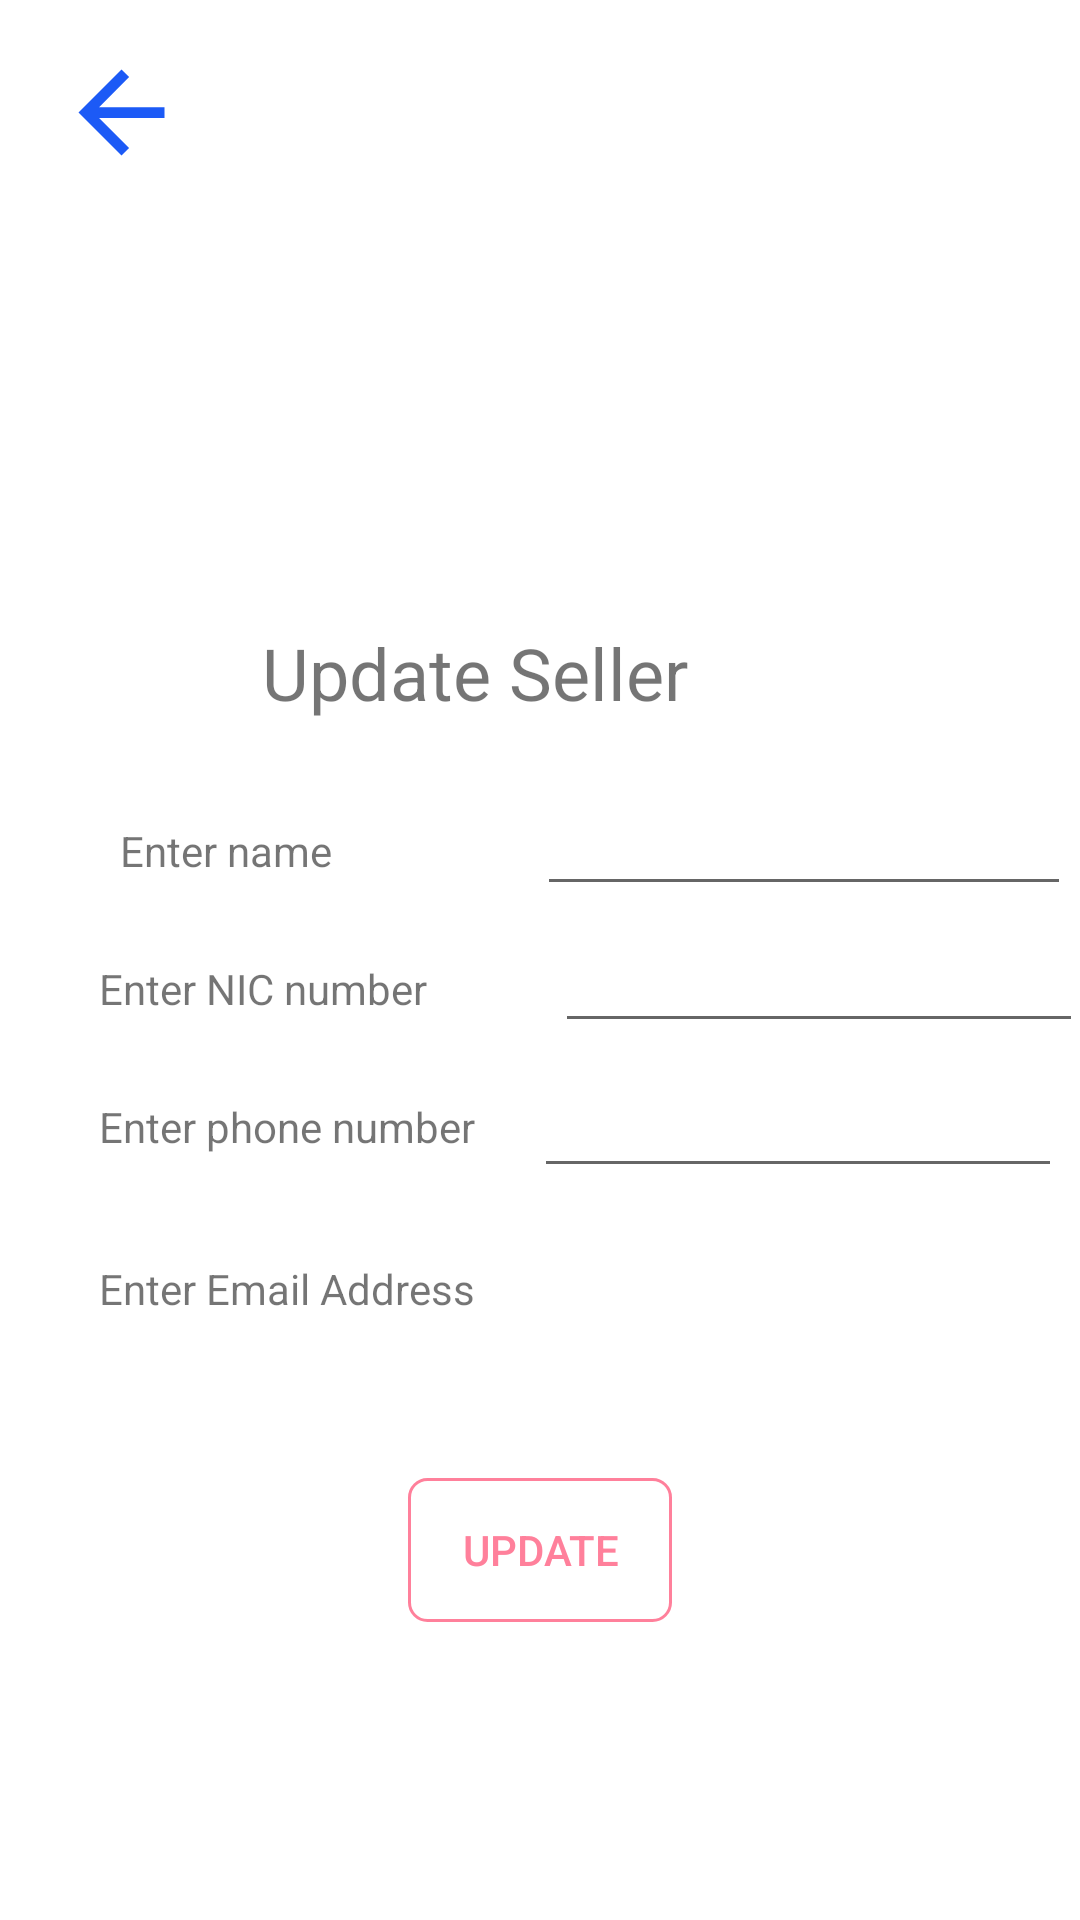

Locate icon controls on the screen. Image size 1080x1920, boxes as (x1, y1, x2, y2).
arrow back: (78, 69, 165, 156)
